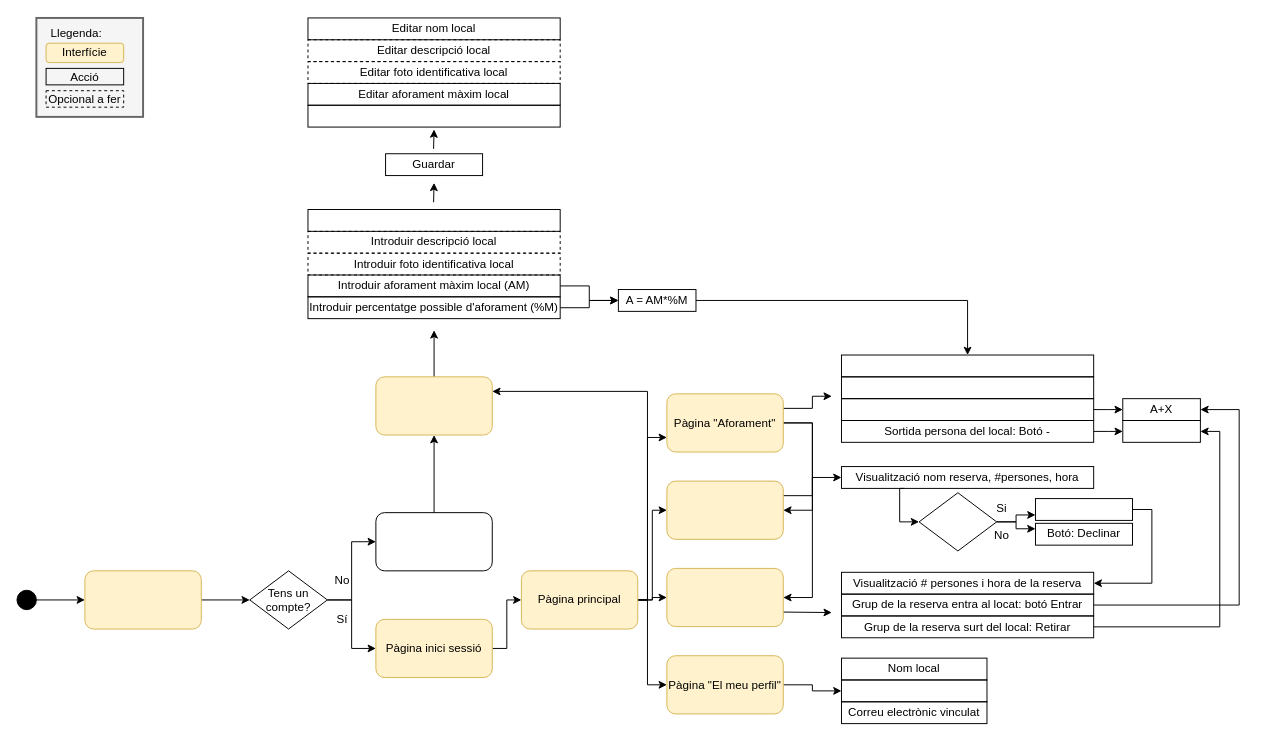
This 1264x740 diagram has some shape labels left out. Each missing label, with the centre of its shape:
A-X: the point at 1161,431
Afegir persona al local: Botó +: the point at 967,409
Aforament màxim: the point at 914,690
Botó: Acceptar: the point at 1083,509
Disponibilitat?: the point at 957,521
Editar percentatge possible d'aforament: the point at 433,115
Introduir nom local: the point at 433,220
Pàgina "Cua": the point at 724,597
Pàgina "Reserves": the point at 724,509
Pàgina Configuració: the point at 433,405
Pàgina registre usuari: the point at 142,599
Registrar-se (mateixa pàgina de registre usuari): the point at 433,541
Visualització Informació aforament (A): the point at 967,365
Visualitzar/editar número a sumar/restar (x): the point at 967,387
